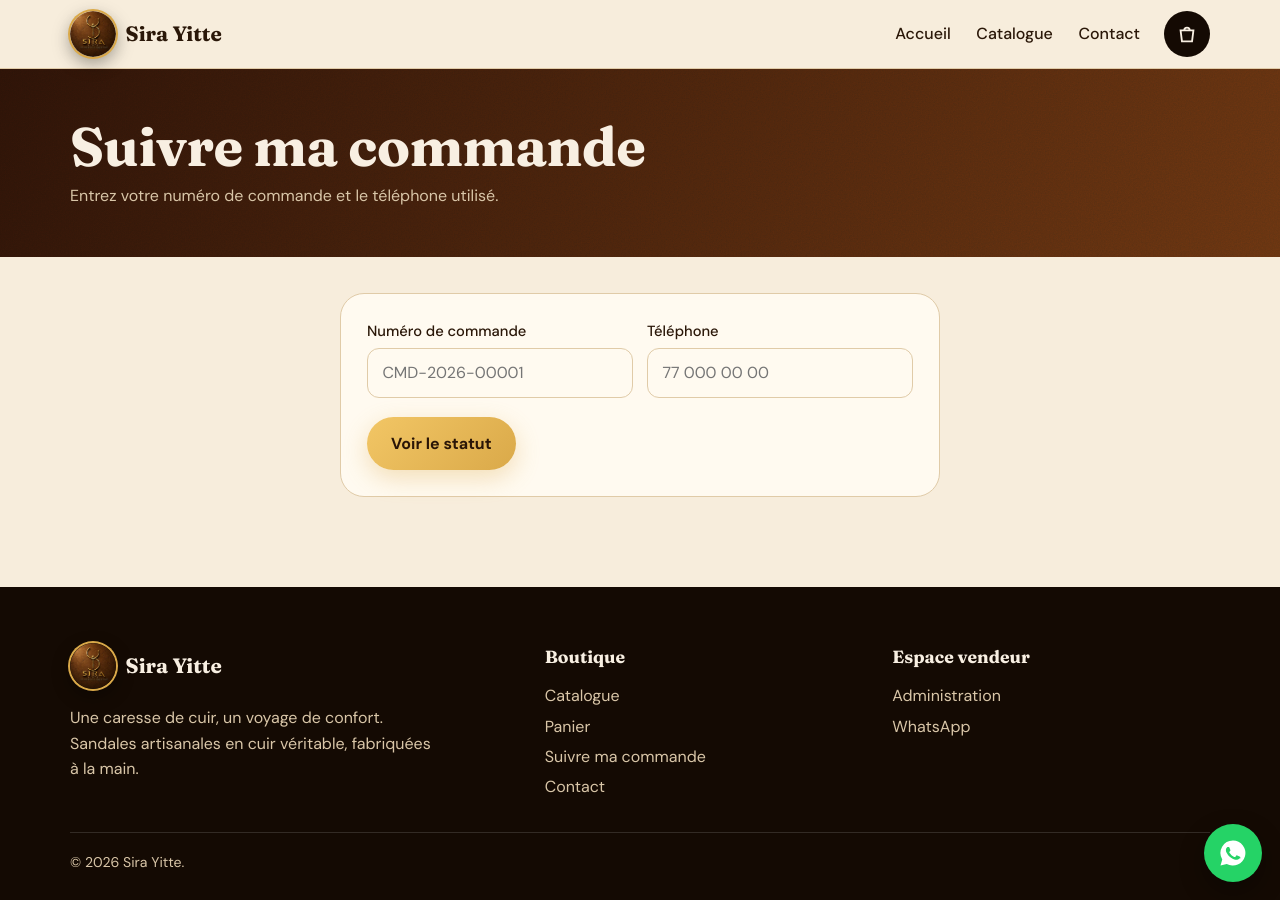
Test: Suivi de commande › commande inconnue : message clair
Step 1. Type "CMD-2026-99999" into the field labelled "Numéro de commande" → (500, 373), box [367,348,633,398]
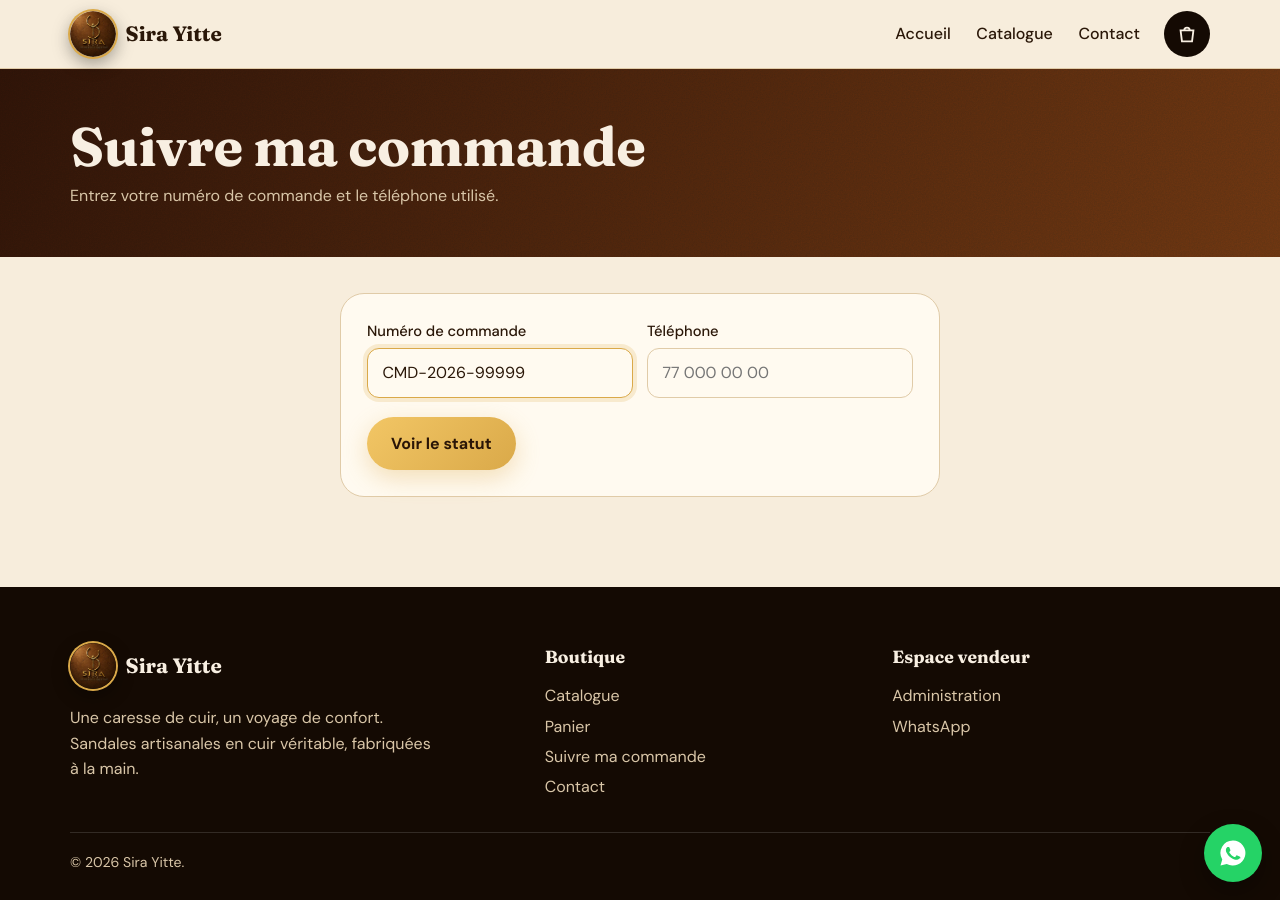
Step 2. Type "770000000" into the field labelled "Téléphone" → (780, 373), box [647,348,913,398]
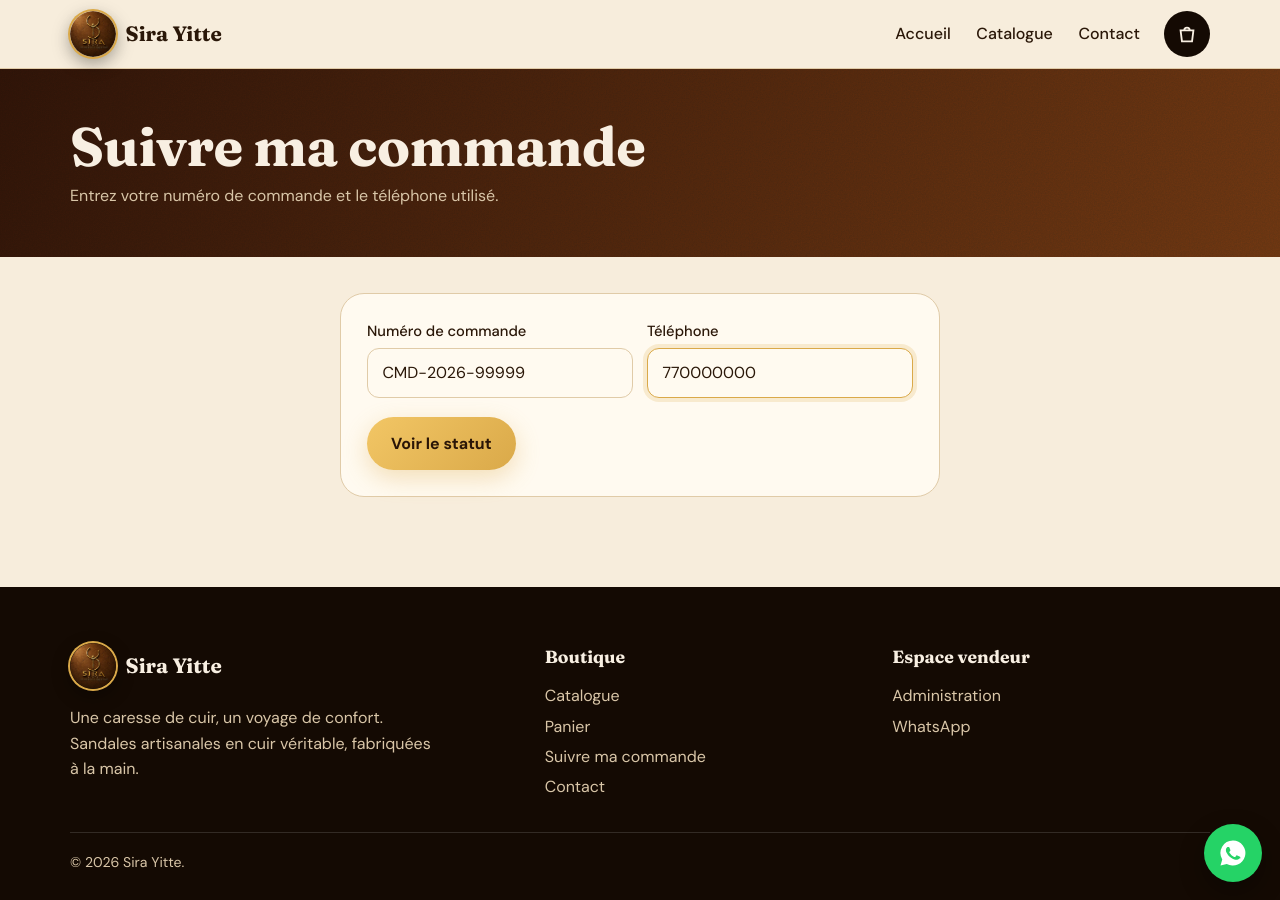
Step 3. Click the button "Voir le statut" → click(441, 444), box [367,417,516,470]
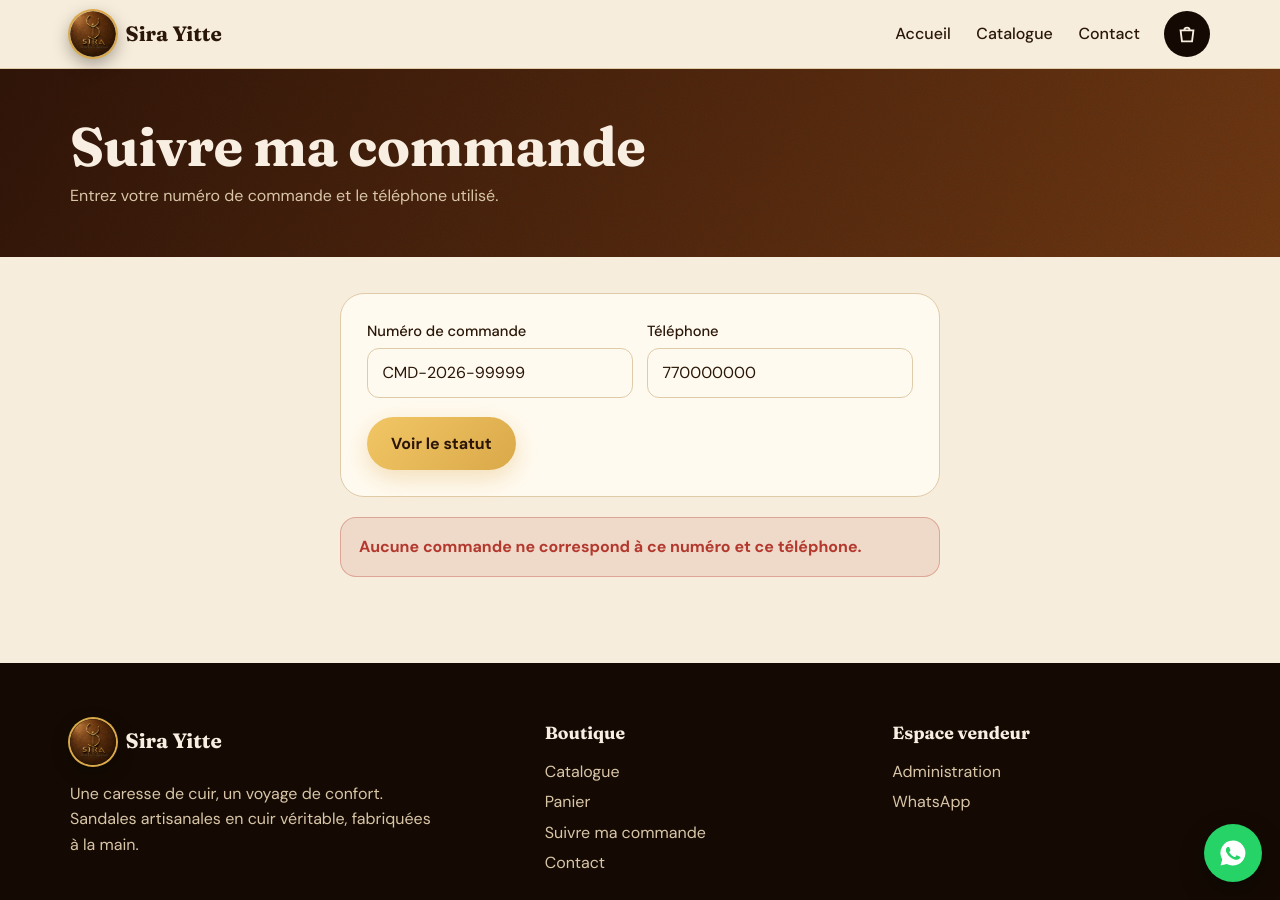
Now the text "Aucune commande ne correspond à ce numéro et ce téléphone." is shown, box [359,536,862,557]
